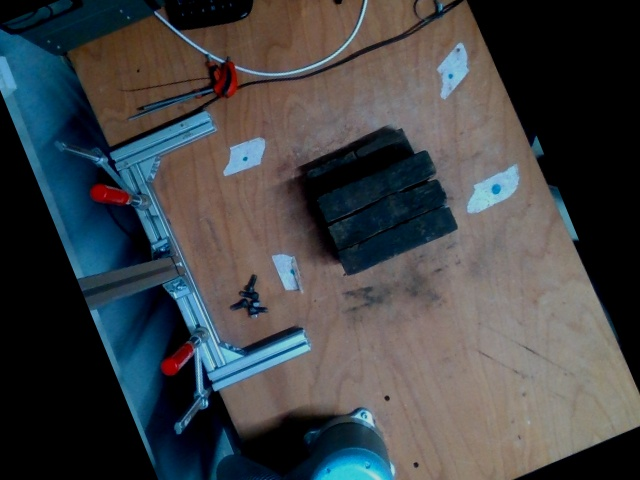brick-side: (336, 205, 459, 275), (316, 150, 437, 221), (328, 180, 450, 248)
